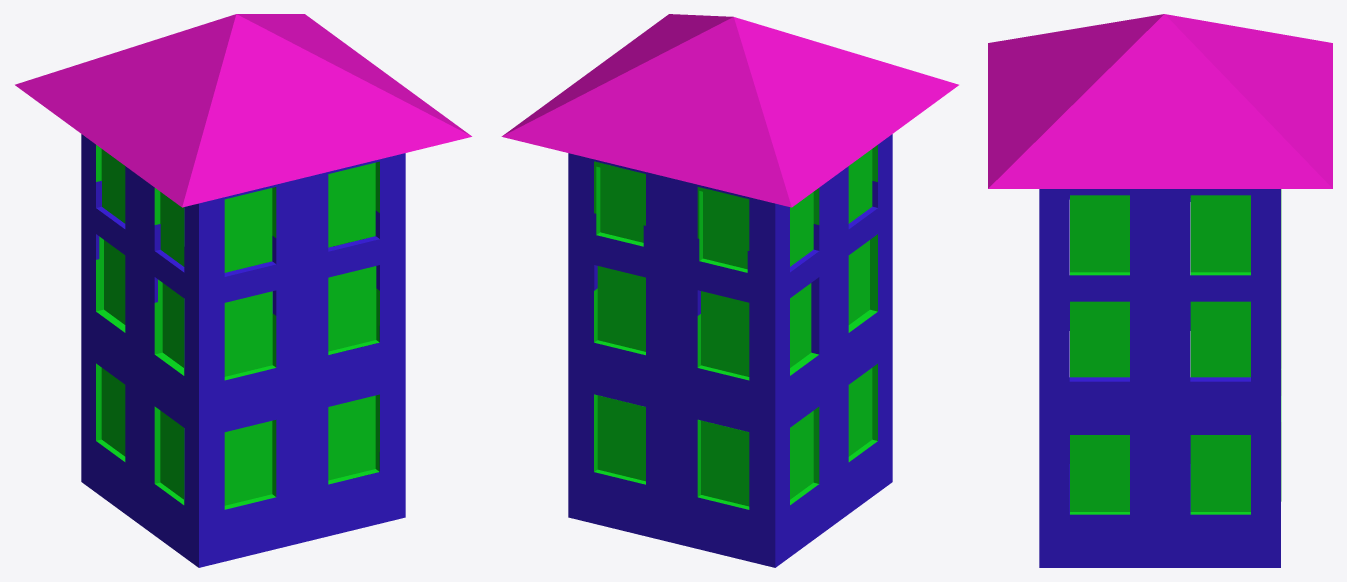
File: differentshop.glb
The picture shows the model from 3 angles, left to right: view 1: azimuth 30°, elevation 25°; view 2: azimuth 150°, elevation 25°; view 3: azimuth 270°, elevation 25°; orthographic projection. The views are drawn at different scales.
Parts seen in each view (by area): view 1: Cube, Cube.001, Cube.002; view 2: Cube, Cube.001, Cube.002; view 3: Cube, Cube.001, Cube.002.
Part boxes in pixels (x1,y1,x2,y2): Cube: [81, 134, 405, 567]; Cube.001: [15, 14, 471, 207]; Cube.002: [96, 145, 379, 509]; Cube: [568, 134, 892, 567]; Cube.001: [501, 14, 958, 207]; Cube.002: [594, 145, 877, 509]; Cube: [1039, 189, 1280, 567]; Cube.001: [988, 14, 1332, 188]; Cube.002: [1070, 189, 1281, 514].
Bounding box in the file's own units: 10.05 × 16.06 × 10.05.
